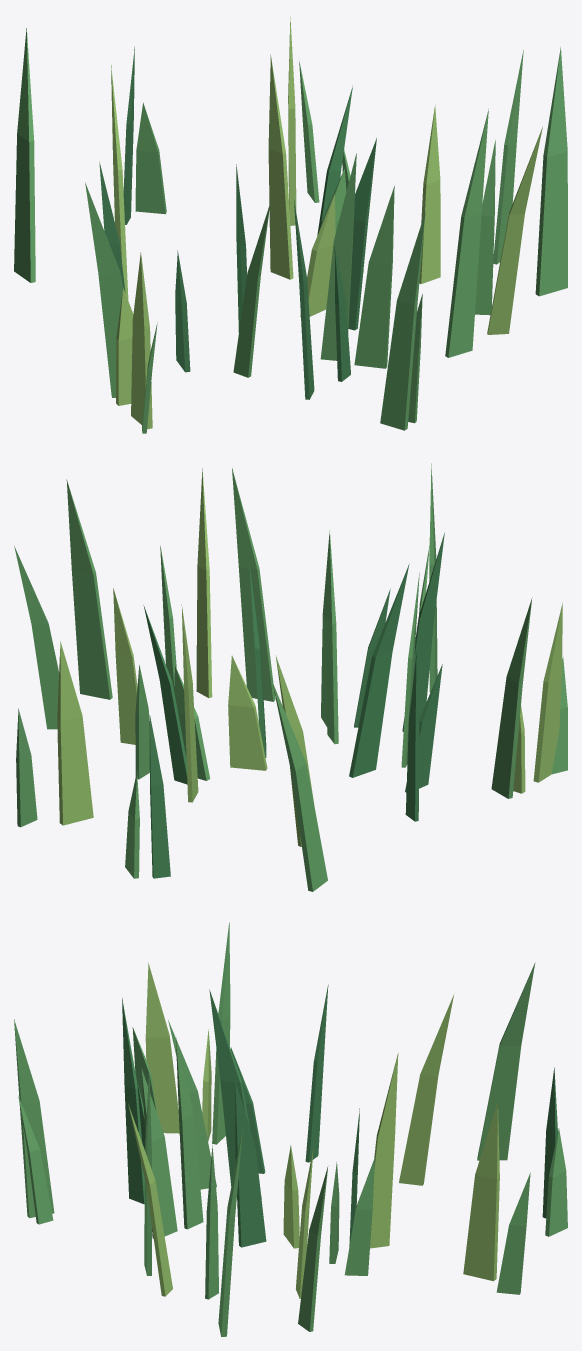
The model's file is grass_clump_f.glb.
3 renders of one model, top to bottom at view 1: azimuth 30°, elevation 25°; view 2: azimuth 150°, elevation 25°; view 3: azimuth 270°, elevation 25°, orthographic. The views are drawn at different scales.
Parts seen in each view (by area): view 1: Grass_3.005, Grass_4.005, Grass_2.005, Grass_1.005; view 2: Grass_4.005, Grass_3.005, Grass_1.005, Grass_2.005; view 3: Grass_4.005, Grass_3.005, Grass_2.005, Grass_1.005.
Boxes of the visible parts, x1,y1,x2,y2 form: Grass_3.005: [14, 28, 567, 423]; Grass_4.005: [111, 16, 542, 429]; Grass_2.005: [142, 50, 523, 433]; Grass_1.005: [99, 46, 376, 399]; Grass_4.005: [57, 468, 562, 846]; Grass_3.005: [66, 479, 532, 891]; Grass_1.005: [143, 532, 444, 878]; Grass_2.005: [14, 463, 567, 827]; Grass_4.005: [128, 963, 499, 1298]; Grass_3.005: [18, 922, 567, 1336]; Grass_2.005: [14, 1019, 530, 1331]; Grass_1.005: [122, 984, 557, 1247].
Bounding box in the file's own units: 1.52 × 0.6998 × 1.61.
